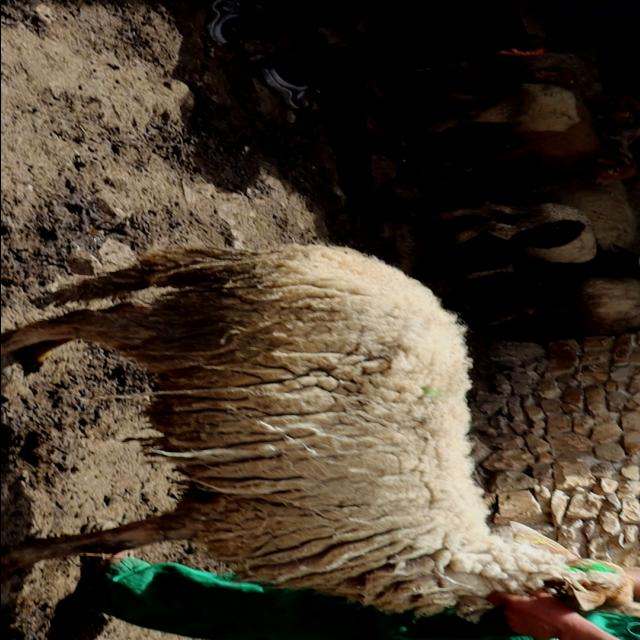Score_2: (1, 244, 633, 619)
